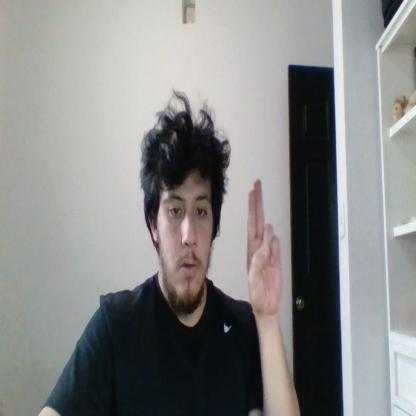U: (246, 179, 281, 316)
